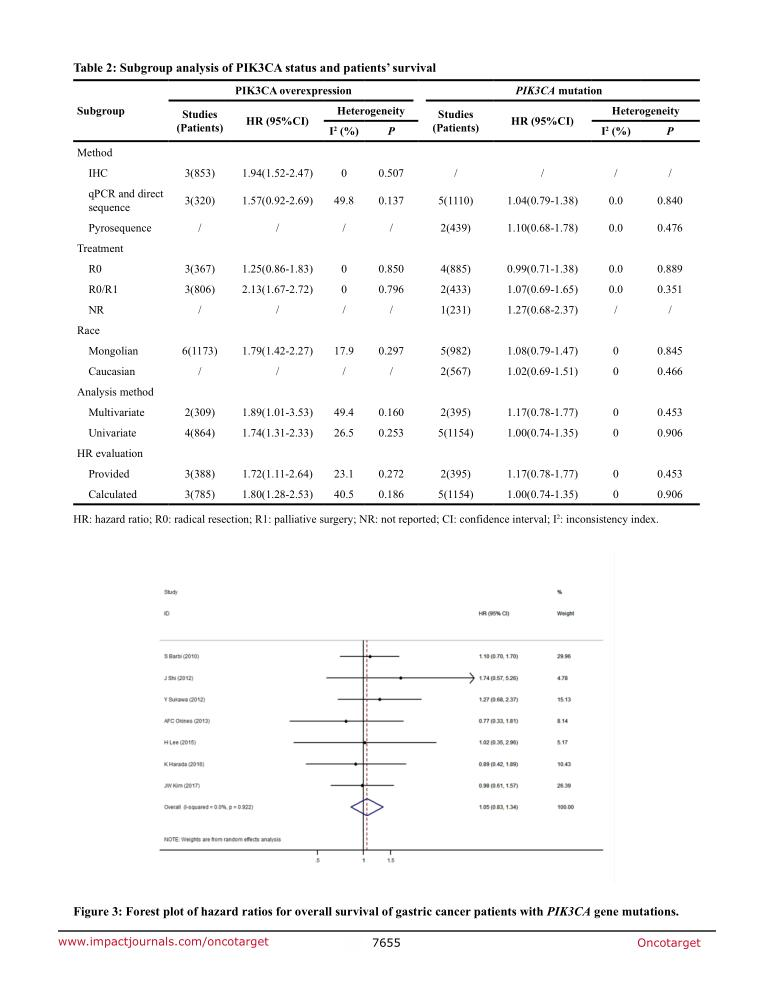table: (76, 84, 682, 500)
